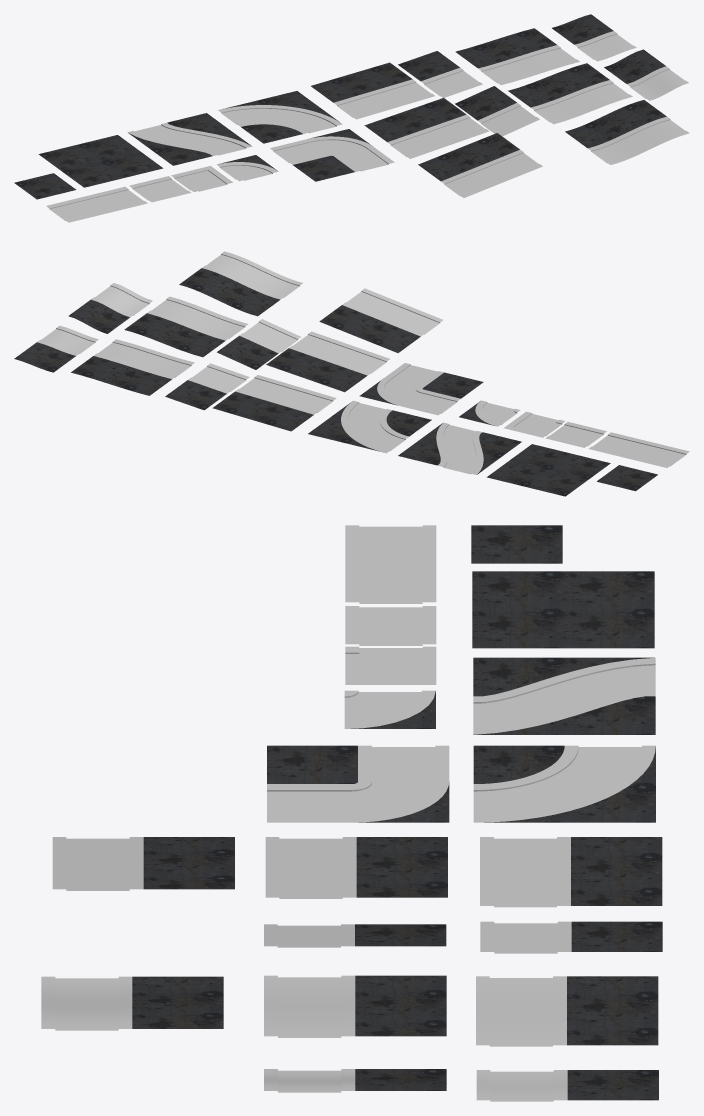
The model's file is Road_set_v1.FBX.
3 views of the same model, one above another, from view 1: azimuth 30°, elevation 25°; view 2: azimuth 150°, elevation 25°; view 3: azimuth 270°, elevation 25° (orthographic). The views are drawn at different scales.
Visible parts, largest first — view 1: Road_set_v1_road_up_1m_LD_f (×2), Road_set_v1_b_floor, Road_set_v1_b_bend_2, Road_set_v1_b_bend_1, Road_set_v1_road_up_3m_LD_f, Road_set_v1_road_up_3m_HD, Road_set_v1_road_up_3m_LD, Road_set_v1_road_up_3m_HD_f, Road_set_v1_road_up_2m_HD, Road_set_v1_road_up_2m_LD, Road_set_v1_road_up_2m_HD_f, Road_set_v1_b_bend_3 (+19 smaller); view 2: Road_set_v1_road_up_1m_LD_f (×2), Road_set_v1_b_floor, Road_set_v1_b_bend_2, Road_set_v1_b_bend_1, Road_set_v1_road_up_3m_HD, Road_set_v1_road_up_3m_HD_f, Road_set_v1_road_up_3m_LD, Road_set_v1_road_up_3m_LD_f, Road_set_v1_road_up_2m_HD, Road_set_v1_road_up_2m_HD_f, Road_set_v1_road_up_2m_LD, Road_set_v1_b_bend_3 (+19 smaller); view 3: Road_set_v1_b_floor, Road_set_v1_road_up_1m_LD_f (×2), Road_set_v1_b_bend_2, Road_set_v1_b_bend_1, Road_set_v1_b_bend_3, Road_set_v1_s_tile_2, Road_set_v1_b_bend_3f, Road_set_v1_road_up_1m_HD_f, Road_set_v1_road_up_1m_LD, Road_set_v1_road_up_1m_HD, Road_set_v1_b_bend_1f, Road_set_v1_road_up_2m_HD_f (+19 smaller).
Boxes of the visible parts, x1,y1,x2,y2 form: Road_set_v1_road_up_1m_LD_f (×2): (311,62,466,142); Road_set_v1_b_floor: (38,135,163,187); Road_set_v1_b_bend_2: (270,136,394,171); Road_set_v1_b_bend_1: (218,105,342,133); Road_set_v1_road_up_3m_LD_f: (418,133,519,181); Road_set_v1_road_up_3m_HD: (588,116,689,164); Road_set_v1_road_up_3m_LD: (441,149,542,197); Road_set_v1_road_up_3m_HD_f: (565,100,666,148); Road_set_v1_road_up_2m_HD: (531,80,632,124); Road_set_v1_road_up_2m_LD: (387,114,489,158); Road_set_v1_road_up_2m_HD_f: (508,63,609,107); Road_set_v1_b_bend_3: (128,122,251,155); Road_set_v1_road_up_1m_LD_f (×2): (212,348,367,431); Road_set_v1_b_floor: (487,444,610,496); Road_set_v1_b_bend_2: (377,363,460,415); Road_set_v1_b_bend_1: (341,400,408,452); Road_set_v1_road_up_3m_HD: (202,251,302,299); Road_set_v1_road_up_3m_HD_f: (179,268,279,316); Road_set_v1_road_up_3m_LD: (342,288,442,336); Road_set_v1_road_up_3m_LD_f: (319,305,420,352); Road_set_v1_road_up_2m_HD: (147,296,247,340); Road_set_v1_road_up_2m_HD_f: (124,313,225,357); Road_set_v1_road_up_2m_LD: (289,331,389,375); Road_set_v1_b_bend_3: (436,422,483,474); Road_set_v1_b_floor: (472,571,654,648); Road_set_v1_road_up_1m_LD_f (×2): (356,837,662,905); Road_set_v1_b_bend_2: (267,745,449,822); Road_set_v1_b_bend_1: (473,745,655,822); Road_set_v1_b_bend_3: (473,657,655,734); Road_set_v1_s_tile_2: (345,525,436,603); Road_set_v1_b_bend_3f: (473,657,655,734); Road_set_v1_road_up_1m_HD_f: (567,976,658,1045); Road_set_v1_road_up_1m_LD: (480,837,570,907); Road_set_v1_road_up_1m_HD: (476,976,566,1046); Road_set_v1_b_bend_1f: (473,745,655,822); Road_set_v1_road_up_2m_HD_f: (355,975,446,1036).
Bounding box in the file's own units: 151 × 3.18 × 68.15.
